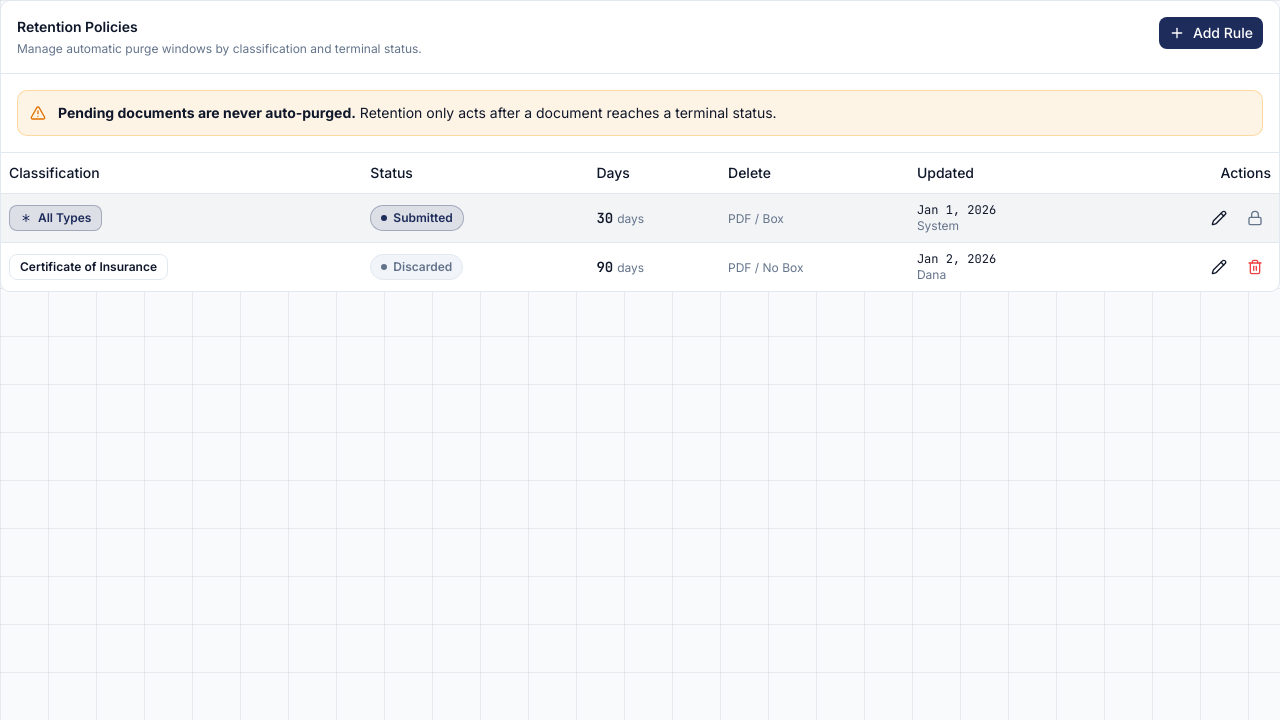
Scenario: RetentionPoliciesSection › blocks duplicate classification/status rules before create
Click the button "Add Rule": coordinates (1211, 33) [1159,17,1263,49]
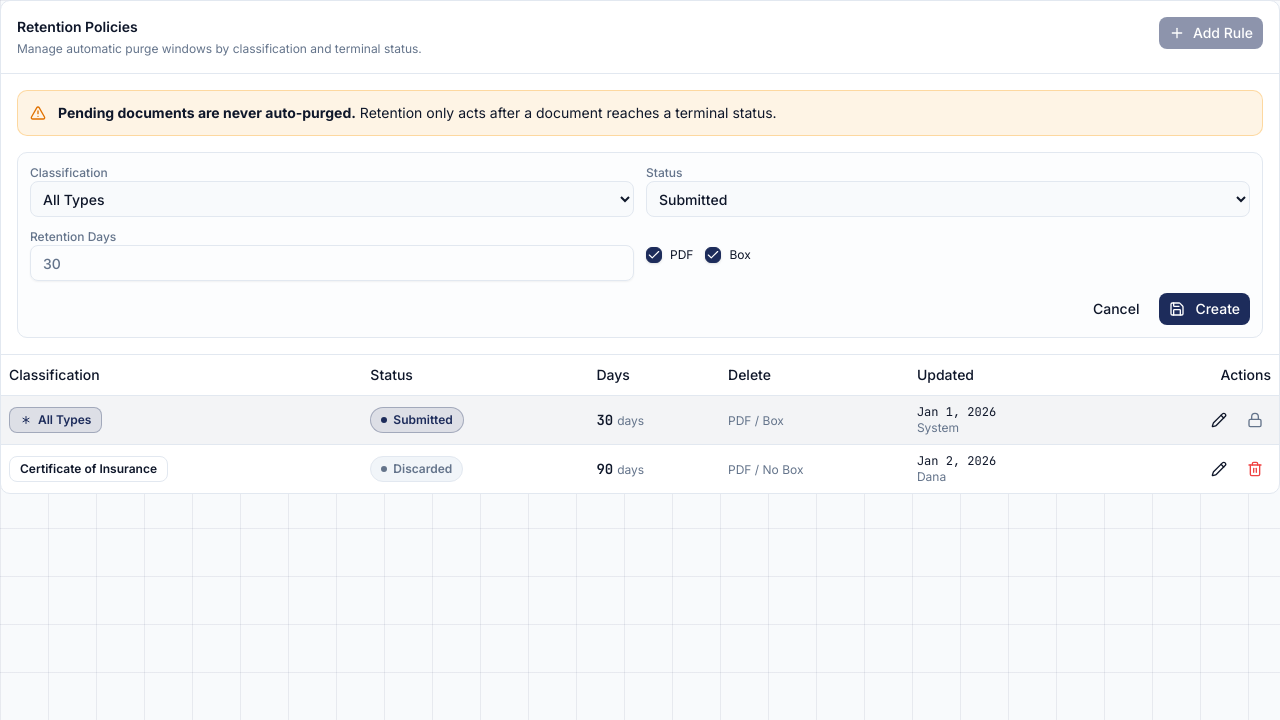
Click the button "Create": coordinates (1205, 309) [1159,293,1250,325]
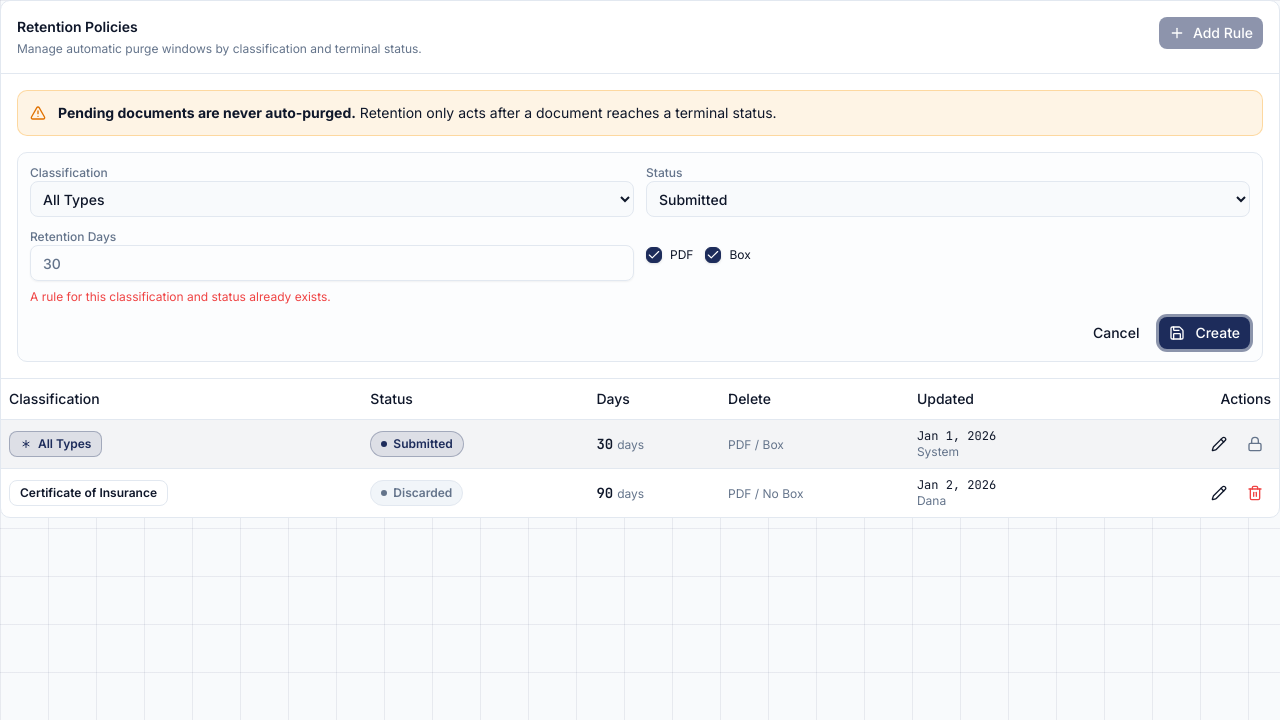
Expected: the text "A rule for this classification and status already exists." is shown, [30,289,331,304]
